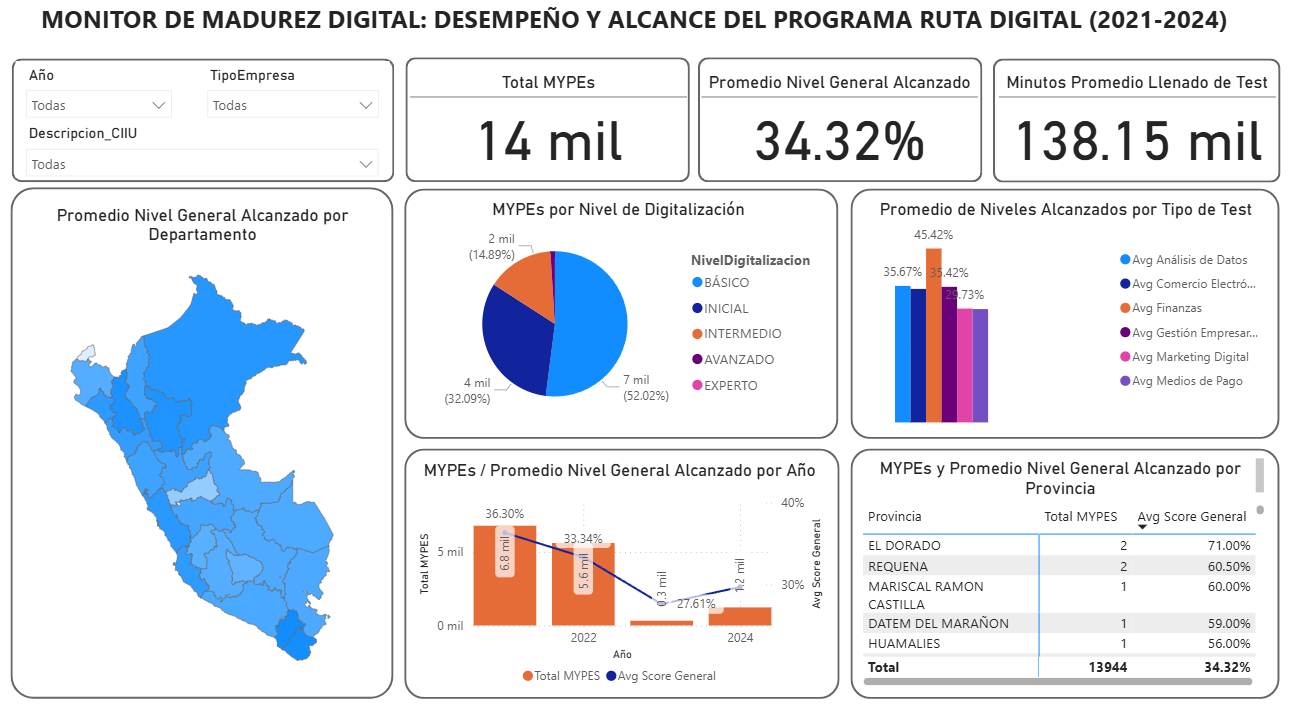

What the dashboard file says about the page in this screenshot:
{"tool":"powerbi","page":{"name":"Página 1","canvas":[1280,720],"ordinal":0},"visuals":[{"type":"shape","box":[13.3,66.4,377.9,122.1],"z":0},{"type":"shape","box":[12.8,194.3,378.2,505.3],"z":1000},{"type":"clusteredColumnChart","fields":{"Y":["hechos_Digitalizacion.Avg Análisis de Datos","hechos_Digitalizacion.Avg Comercio Electrónico","hechos_Digitalizacion.Avg Finanzas","hechos_Digitalizacion.Avg Gestión Empresarial","hechos_Digitalizacion.Avg Marketing Digital","hechos_Digitalizacion.Avg Medios de Pago"]},"box":[757.5,217.5,503.8,215],"z":2000},{"type":"shape","box":[841.8,194.5,423.8,247.5],"z":3000},{"type":"shapeMap","fields":{"Value":["hechos_Digitalizacion.Avg Score General"],"Category":["dim_Ubicacion.Departamento"]},"box":[18.8,254.1,366.5,433.5],"z":4000},{"type":"shape","box":[402.3,65.2,280.9,123.5],"z":5000},{"type":"shape","box":[982.3,66.1,283.9,122.6],"z":6000},{"type":"shape","box":[691.4,65.2,280.9,123.5],"z":7000},{"type":"shape","box":[401.8,452,430,247.5],"z":8000},{"type":"shape","box":[841.8,452,423.8,247.5],"z":9000},{"type":"shape","box":[401.8,194.5,428.8,247.5],"z":10000},{"type":"card","title":"Total MYPEs","fields":{"Values":["hechos_Digitalizacion.Total MYPES"]},"box":[407.2,80.6,272.5,93.8],"z":11000},{"type":"lineStackedColumnComboChart","fields":{"Category":["Dim_Calendario.Date Jerarquía.Año","Dim_Calendario.Date Jerarquía.Mes Nombre"],"Y":["hechos_Digitalizacion.Total MYPES"],"Y2":["hechos_Digitalizacion.Avg Score General"]},"box":[411.2,491.2,408.8,203.3],"z":12000},{"type":"card","title":"Promedio Nivel General Alcanzado","fields":{"Values":["hechos_Digitalizacion.Avg Score General"]},"box":[694.7,80.6,272.5,93.8],"z":13000},{"type":"card","title":"Minutos Promedio Llenado de Test","fields":{"Values":["hechos_Digitalizacion.Avg Duración (Minutos)"]},"box":[988.5,80.6,272.5,93.8],"z":14000},{"type":"slicer","fields":{"Values":["Dim_Calendario.Año"]},"box":[17.9,69.5,164.2,57.9],"z":15000},{"type":"pieChart","fields":{"Category":["dim_NivelDigitalizacion.NivelDigitalizacion"],"Y":["hechos_Digitalizacion.Total MYPES"]},"box":[411.4,224.8,404.3,208.6],"z":16000},{"type":"slicer","fields":{"Values":["dim_CIIU.Descripcion_CIIU"]},"box":[17.6,127.3,368.8,57.3],"z":17000},{"type":"slicer","fields":{"Values":["dim_TipoEmpresa.TipoEmpresa"]},"box":[196.7,69.5,190,57.9],"z":18000},{"type":"pivotTable","fields":{"Rows":["dim_Ubicacion.Provincia"],"Values":["hechos_Digitalizacion.Total MYPES","hechos_Digitalizacion.Avg Score General"]},"box":[850,502.7,406.4,189.3],"z":19000},{"type":"textbox","box":[0,6.4,1257.3,59.1],"z":20000},{"type":"textbox","box":[411.1,200.2,403.6,33.2],"z":21000},{"type":"textbox","box":[852.9,199.8,403.6,33.6],"z":22000},{"type":"textbox","box":[852.1,457,403.6,45.7],"z":23000},{"type":"textbox","box":[412.1,457.7,403.6,33.6],"z":24000},{"type":"textbox","box":[18.2,205.9,367.1,48.2],"z":25000}]}

Visuals, with their boxes in screenshot pixels (x1, y1, x2, y2), scaled from the page's 1280x720 canvas onto the 1291x706 screenshot:
shape: bbox=[13, 65, 395, 185]
shape: bbox=[13, 191, 394, 686]
clusteredColumnChart - hechos_Digitalizacion.Avg Análisis de Datos x hechos_Digitalizacion.Avg Comercio Electrónico: bbox=[764, 213, 1272, 424]
shape: bbox=[849, 191, 1276, 433]
shapeMap - hechos_Digitalizacion.Avg Score General x dim_Ubicacion.Departamento: bbox=[19, 249, 389, 674]
shape: bbox=[406, 64, 689, 185]
shape: bbox=[991, 65, 1277, 185]
shape: bbox=[697, 64, 981, 185]
shape: bbox=[405, 443, 839, 686]
shape: bbox=[849, 443, 1276, 686]
shape: bbox=[405, 191, 838, 433]
"Total MYPEs" card: bbox=[411, 79, 686, 171]
lineStackedColumnComboChart - Dim_Calendario.Date Jerarquía.Año x Dim_Calendario.Date Jerarquía.Mes Nombre: bbox=[415, 482, 827, 681]
"Promedio Nivel General Alcanzado" card: bbox=[701, 79, 976, 171]
"Minutos Promedio Llenado de Test" card: bbox=[997, 79, 1272, 171]
slicer - Dim_Calendario.Año: bbox=[18, 68, 184, 125]
pieChart - dim_NivelDigitalizacion.NivelDigitalizacion x hechos_Digitalizacion.Total MYPES: bbox=[415, 220, 823, 425]
slicer - dim_CIIU.Descripcion_CIIU: bbox=[18, 125, 390, 181]
slicer - dim_TipoEmpresa.TipoEmpresa: bbox=[198, 68, 390, 125]
pivotTable - dim_Ubicacion.Provincia x hechos_Digitalizacion.Total MYPES: bbox=[857, 493, 1267, 679]
textbox: bbox=[0, 6, 1268, 64]
textbox: bbox=[415, 196, 822, 229]
textbox: bbox=[860, 196, 1267, 229]
textbox: bbox=[859, 448, 1266, 493]
textbox: bbox=[416, 449, 823, 482]
textbox: bbox=[18, 202, 389, 249]
